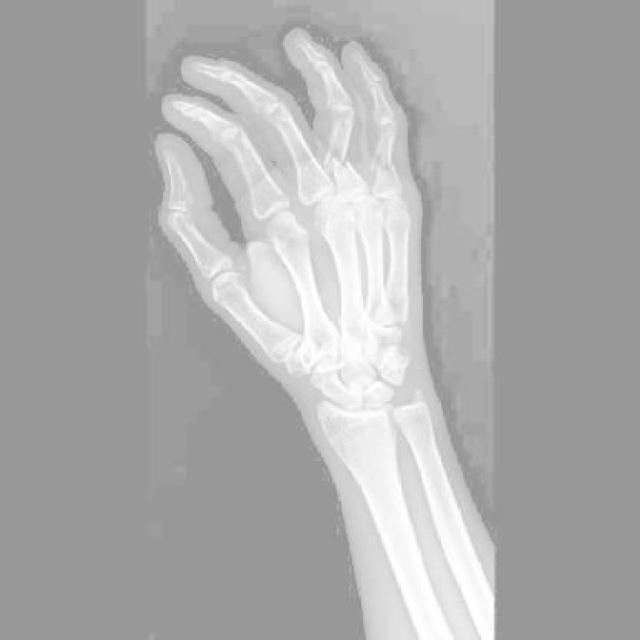Fracture: (320, 146, 353, 179), (368, 151, 396, 180)
